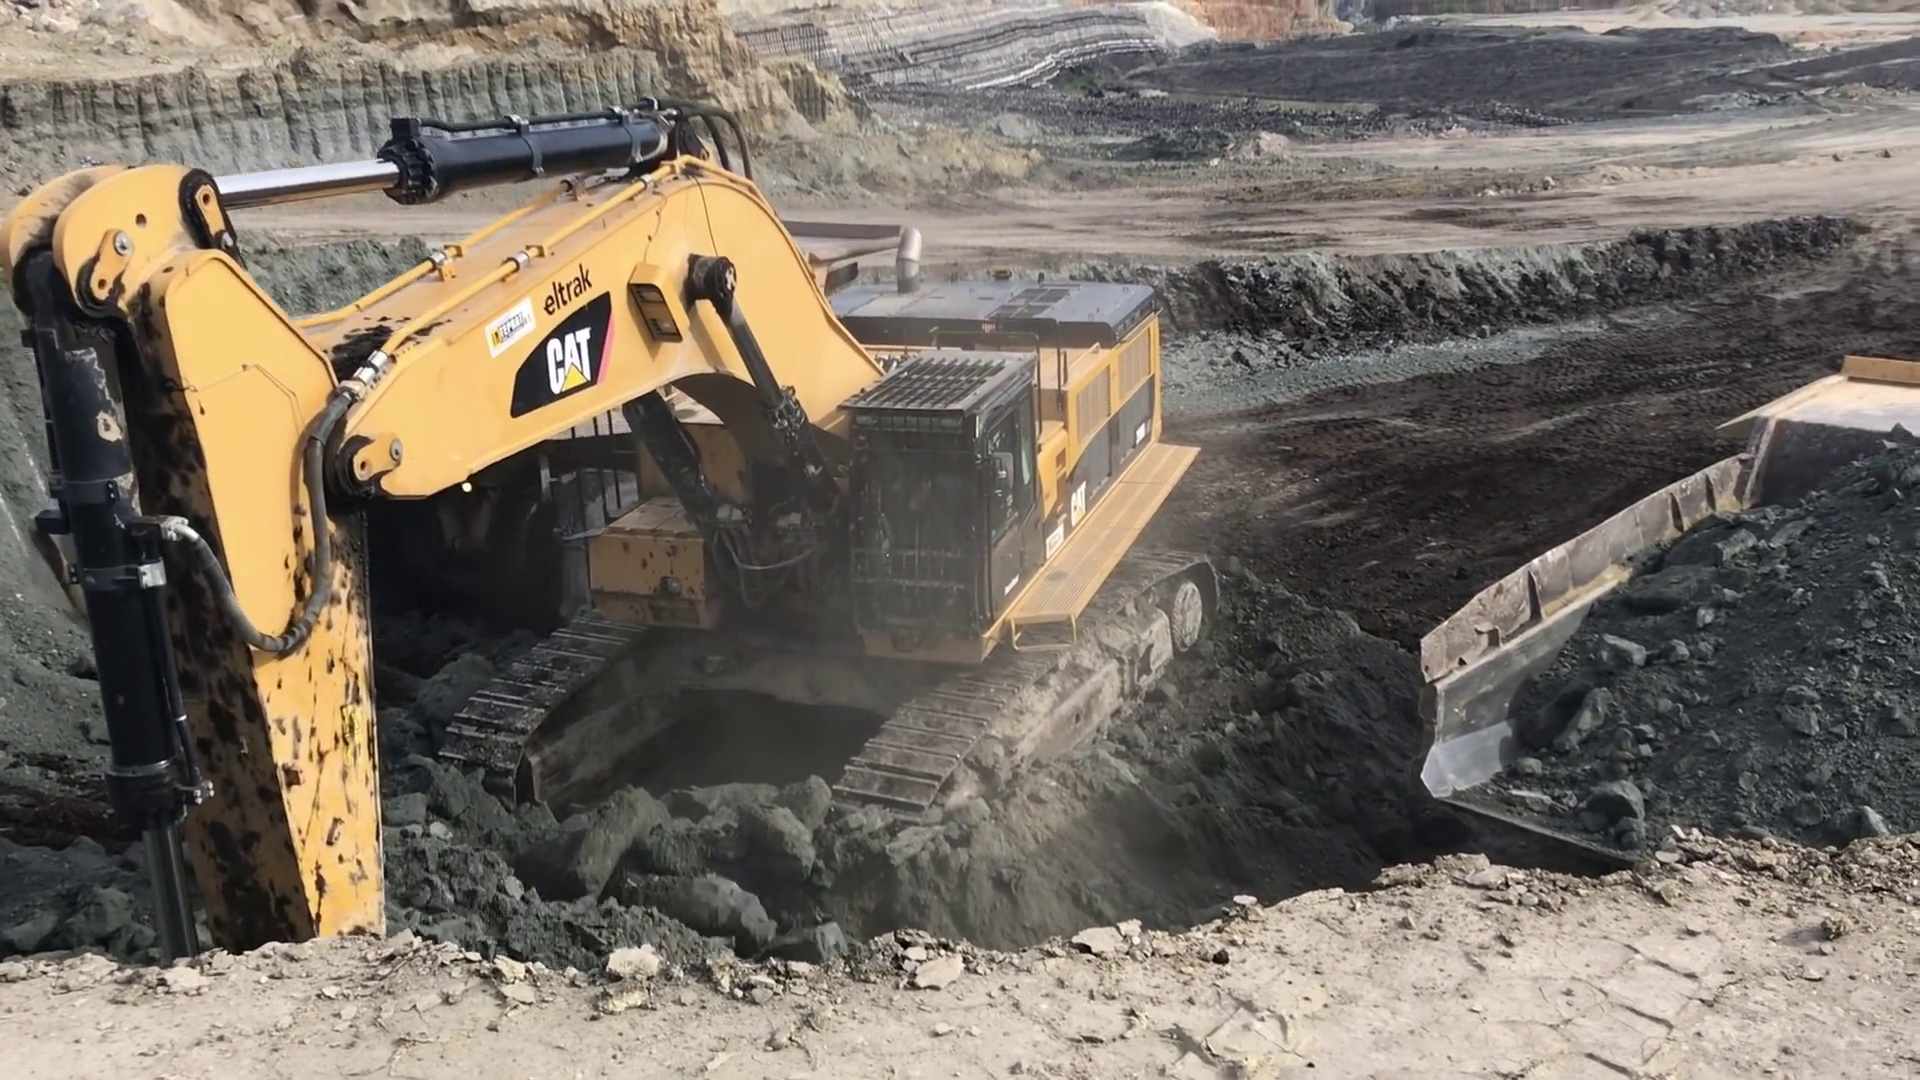dumper: (1400, 351, 1920, 945)
excavator: (11, 98, 1230, 1044)
